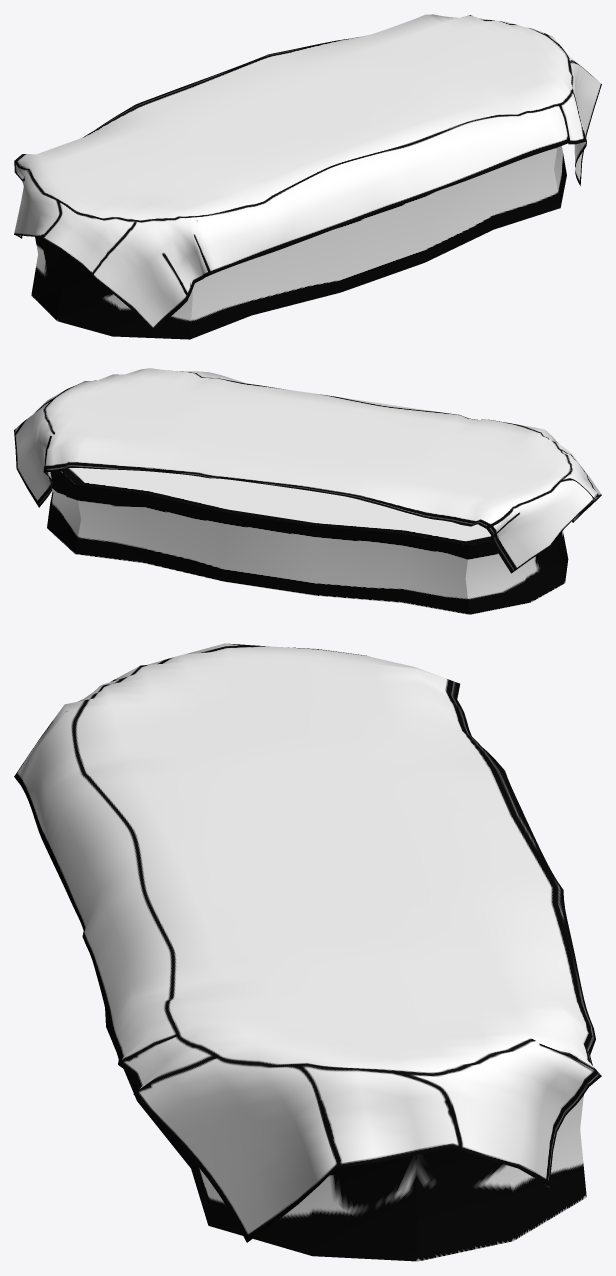
The model's file is bedAndBlanket.FBX.
3 renders of one model, top to bottom at view 1: azimuth 30°, elevation 25°; view 2: azimuth 150°, elevation 25°; view 3: azimuth 270°, elevation 25°, orthographic. The views are drawn at different scales.
Visible parts, largest first — view 1: Plane001, bed; view 2: Plane001, bed; view 3: Plane001, bed.
Part boxes in pixels (x1,y1,x2,y2): Plane001: (14,14,601,330); bed: (31,146,566,339); Plane001: (14,368,601,573); bed: (47,468,568,614); Plane001: (14,643,601,1242); bed: (105,1008,586,1261).
Size of the model in its own units: 1591 by 309 by 833.
